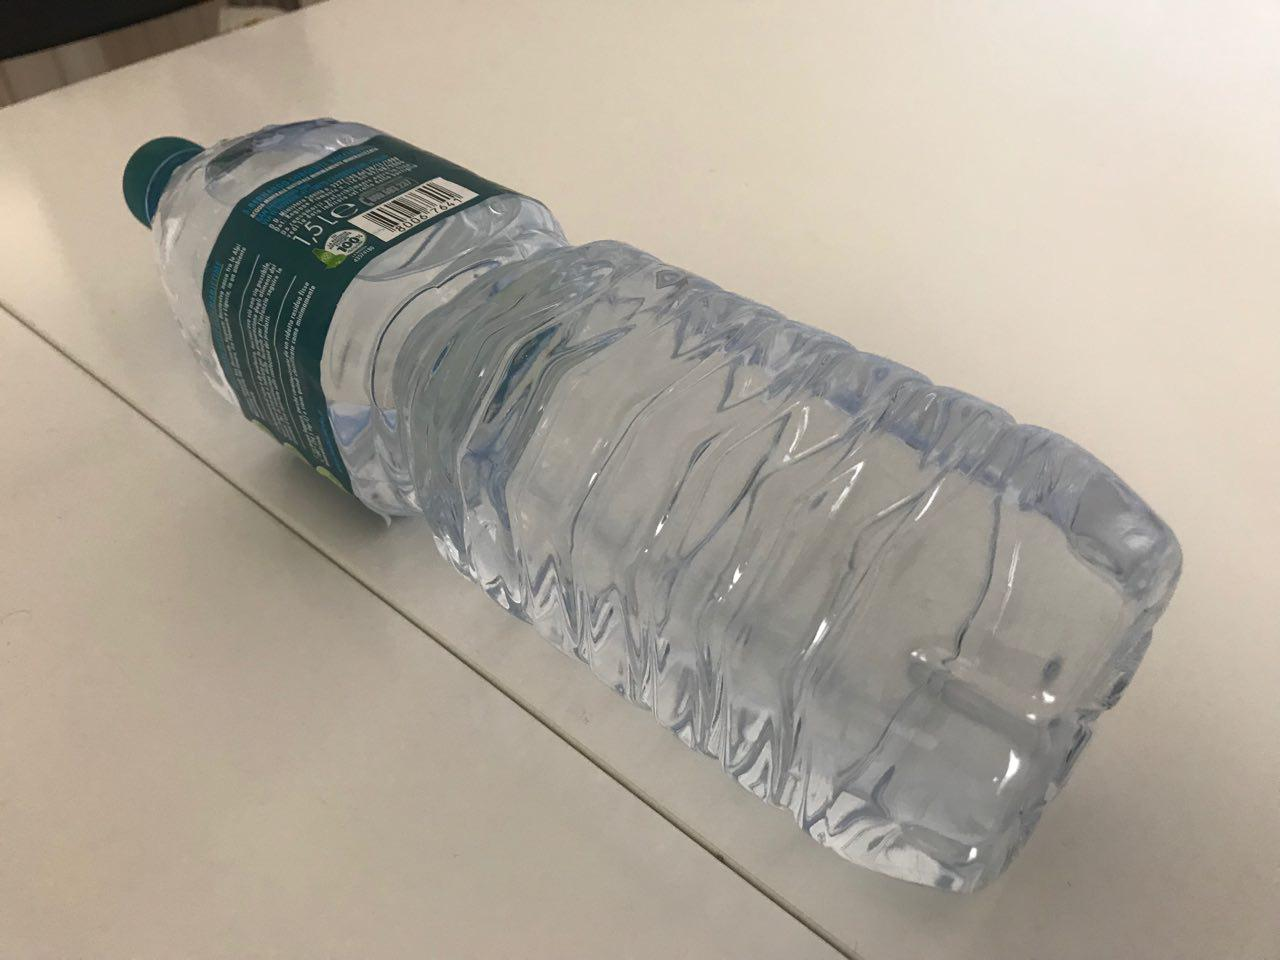san_bernardo: (121, 115, 1185, 899)
